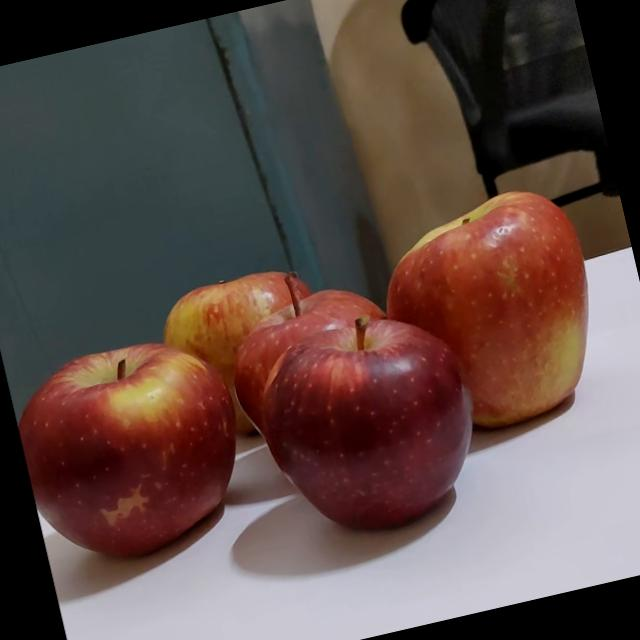apple: (7, 330, 282, 588), (365, 182, 621, 458), (258, 292, 513, 554), (218, 255, 428, 495), (146, 262, 334, 469)
